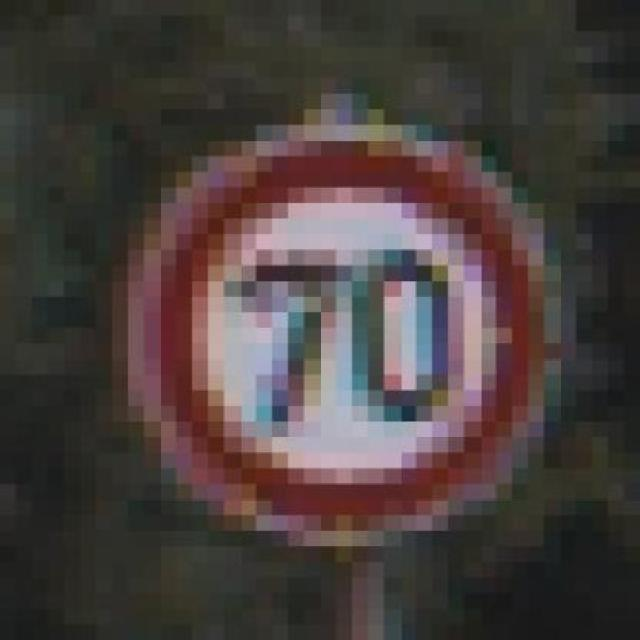forb_speed_over_70: (149, 135, 540, 530)
